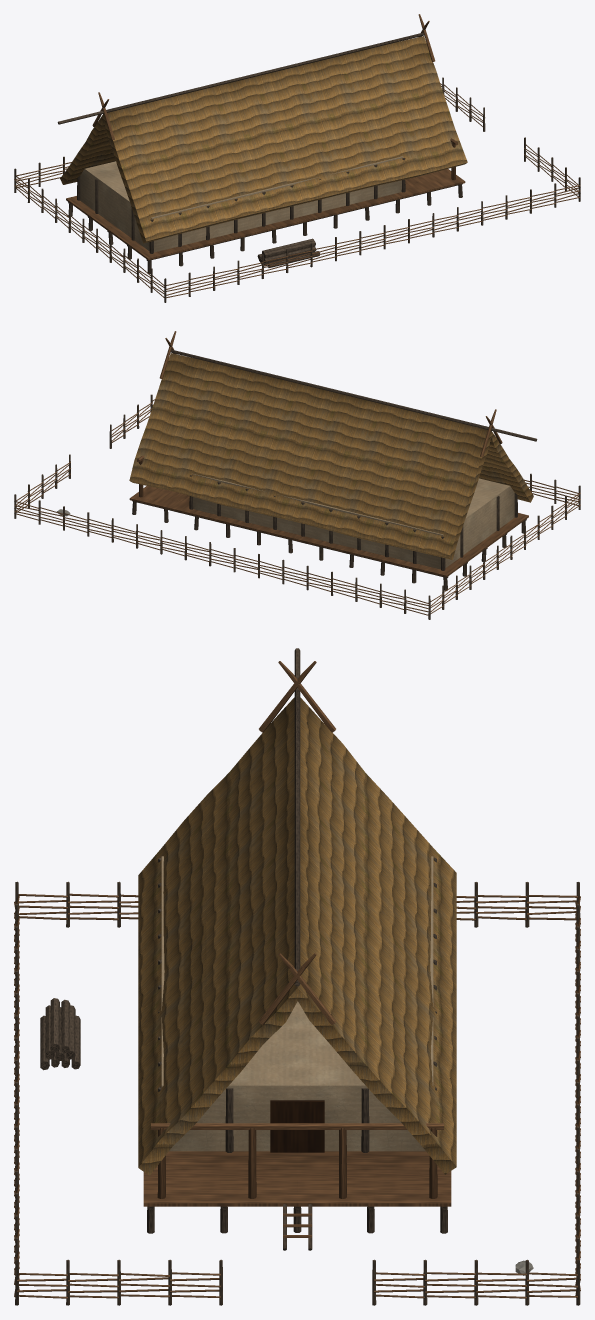
The model's file is casa_del_capo.glb.
The picture shows the model from 3 angles, top to bottom: view 1: azimuth 30°, elevation 25°; view 2: azimuth 150°, elevation 25°; view 3: azimuth 270°, elevation 25°; orthographic projection. The views are drawn at different scales.
Parts seen in each view (by area): view 1: casa_del_capo; view 2: casa_del_capo; view 3: casa_del_capo.
Part boxes in pixels (box(x1,y1,x2,y2)): casa_del_capo: box(14, 14, 580, 302); casa_del_capo: box(14, 331, 580, 619); casa_del_capo: box(14, 648, 580, 1305).
Bounding box in the file's own units: 26.68 × 8.58 × 15.66.
Materials: 6 (6 with a texture image).
